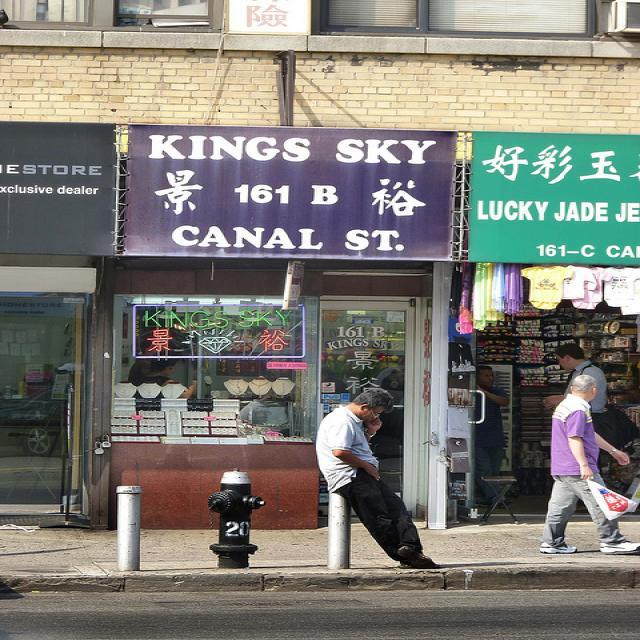fire_hydrant: (208, 468, 266, 568)
